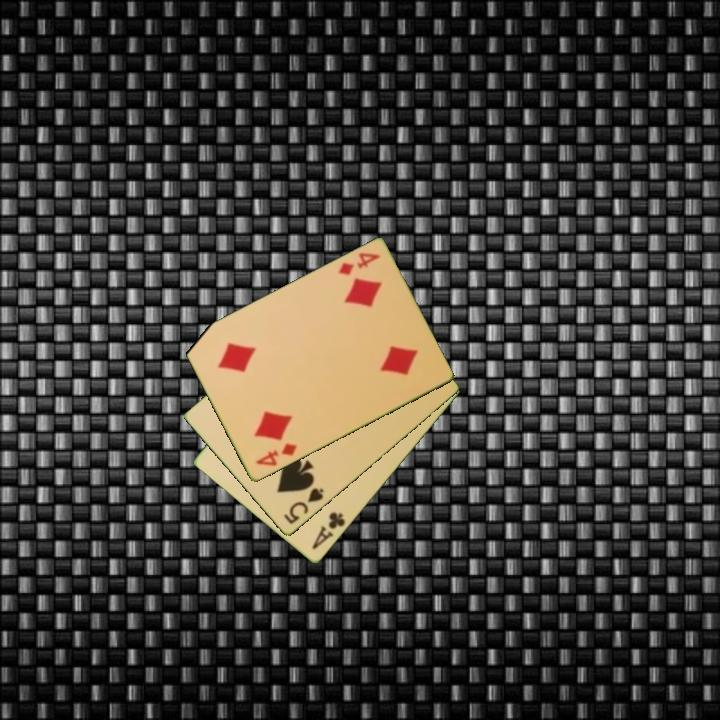4d: (335, 249, 383, 279), (252, 440, 300, 469)
5s: (280, 484, 327, 527)
Ac: (308, 508, 348, 553)
